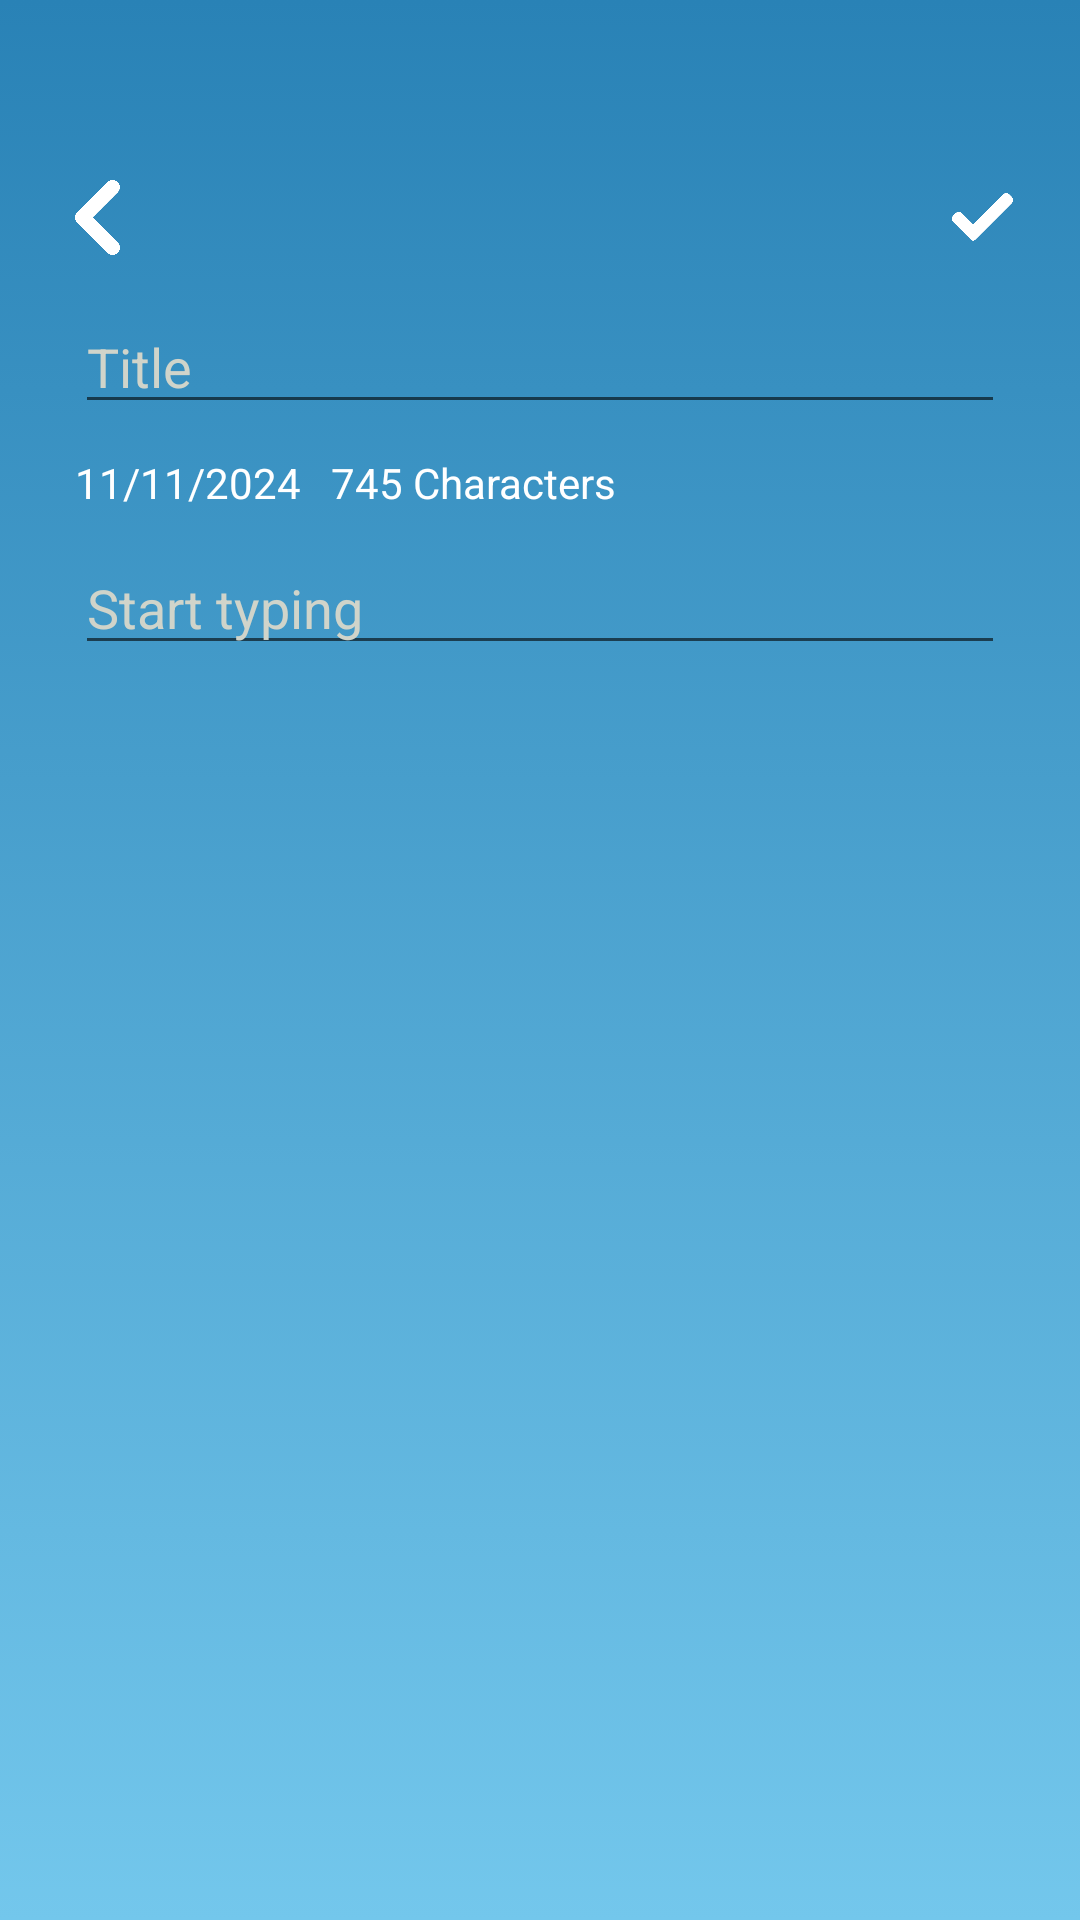

Locate icon controls on the screen. Image size 1080w x 1920h, boxes as (x1, y1, x2, y2).
check: (952, 193, 1013, 241)
previous: (75, 180, 120, 255)
